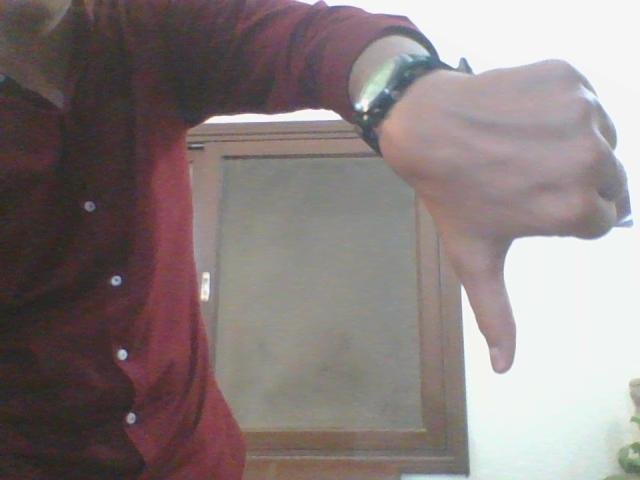thumbs-down: (446, 64, 630, 371)
